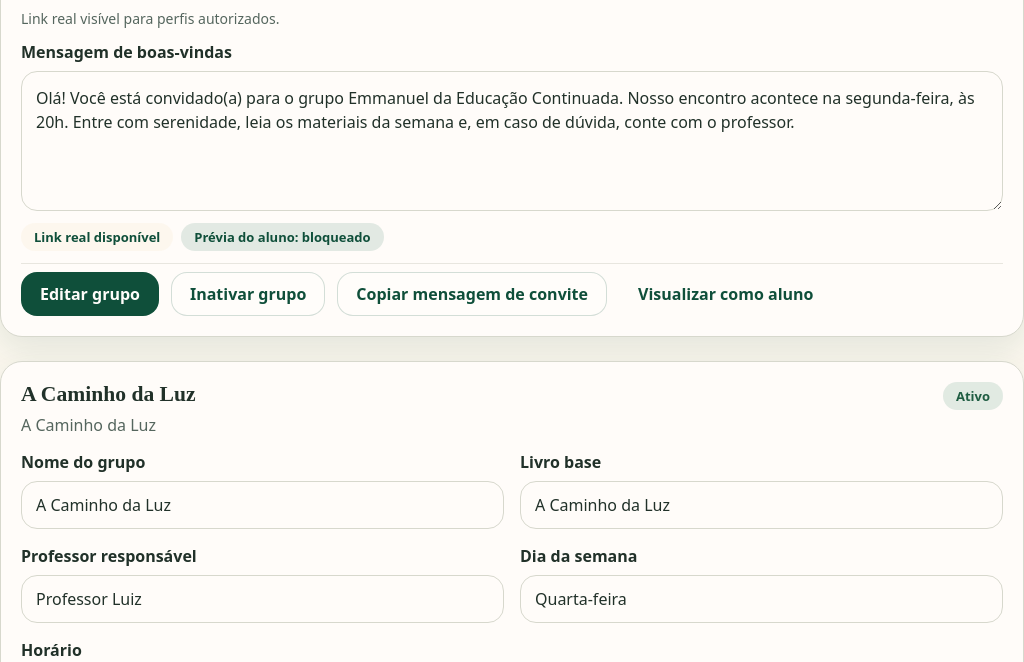
Test: paginas principais com fallback local › /admin/grupos renderiza os grupos e alterna o status em modo demonstrativo
This screenshot has width=1024, height=662.
(page scrolled)
Check: the field labelled "Nome do grupo" is shown, box [21,481,504,529]
Click the button with aria-label "Inativar grupo Emmanuel": x=248, y=294 [171,272,325,316]
(page scrolled)
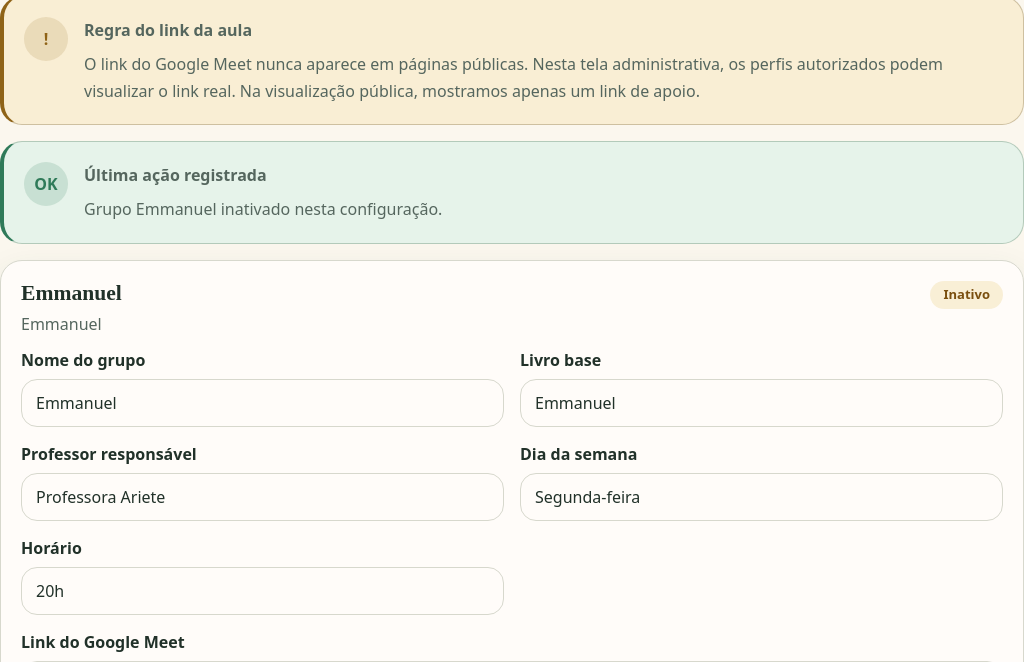
Check: the text "Inativo" is shown, box [930,281,1003,309]
